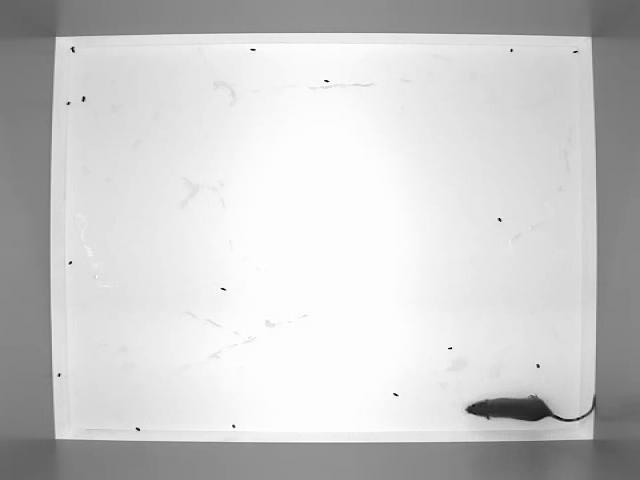Tikus: (466, 394, 598, 425)
